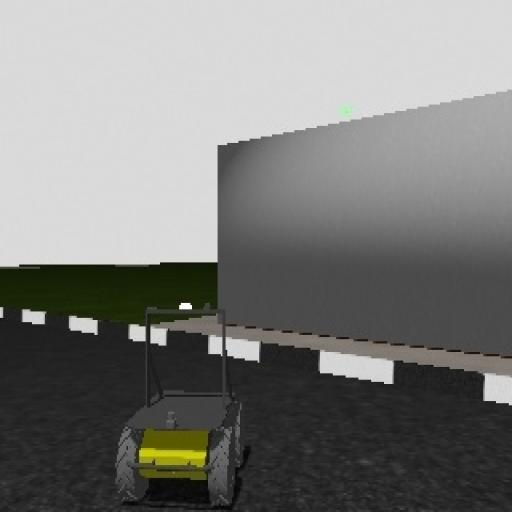huskya200: (96, 298, 254, 510)
